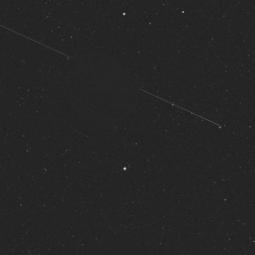double_start: (60, 44, 150, 146)
